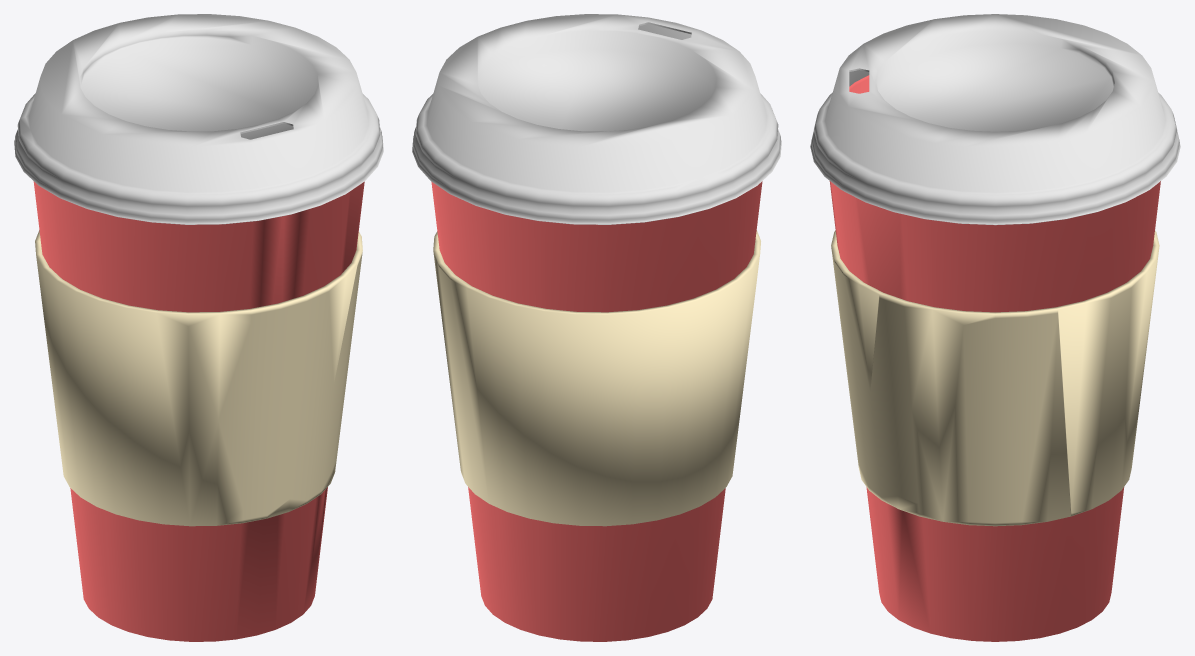
File: coffee-shop.glb
3 renders of one model, left to right at view 1: azimuth 30°, elevation 25°; view 2: azimuth 150°, elevation 25°; view 3: azimuth 270°, elevation 25°, orthographic.
Parts seen in each view (by area): view 1: Sleeve_2, Lid_1, Cup_0; view 2: Sleeve_2, Lid_1, Cup_0; view 3: Sleeve_2, Lid_1, Cup_0.
Boxes of the visible parts, x1=… form: Sleeve_2: x1=35, y1=230, x2=362, y2=526; Lid_1: x1=14, y1=14, x2=383, y2=224; Cup_0: x1=33, y1=181, x2=364, y2=641; Sleeve_2: x1=433, y1=230, x2=760, y2=526; Lid_1: x1=412, y1=14, x2=781, y2=224; Cup_0: x1=431, y1=181, x2=762, y2=641; Sleeve_2: x1=831, y1=230, x2=1159, y2=526; Lid_1: x1=810, y1=14, x2=1180, y2=225; Cup_0: x1=829, y1=75, x2=1160, y2=641.
Size of the model in its own units: 0.7439 by 1.13 by 0.7439.
